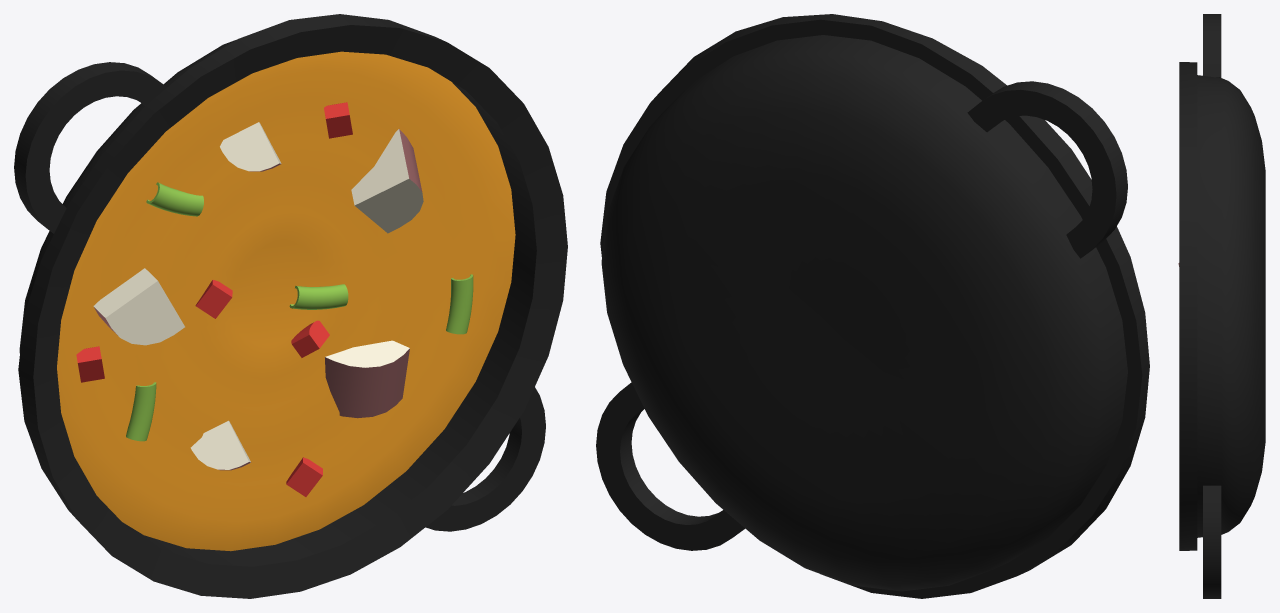
The model's file is shallow_pan_of_food.glb.
3 views of the same model, side by side, from view 1: azimuth 30°, elevation 25°; view 2: azimuth 150°, elevation 25°; view 3: azimuth 270°, elevation 25° (orthographic). The views are drawn at different scales.
Parts seen in each view (by area): view 1: Cube.402; view 2: Cube.402; view 3: Cube.402.
Boxes of the visible parts, bbox=[...] form: Cube.402: bbox=[14, 14, 567, 598]; Cube.402: bbox=[596, 14, 1149, 598]; Cube.402: bbox=[1178, 14, 1265, 598].
Bounding box in the file's own units: 2.15 × 2.15 × 0.3781.
Materials: 1 (1 with a texture image).
